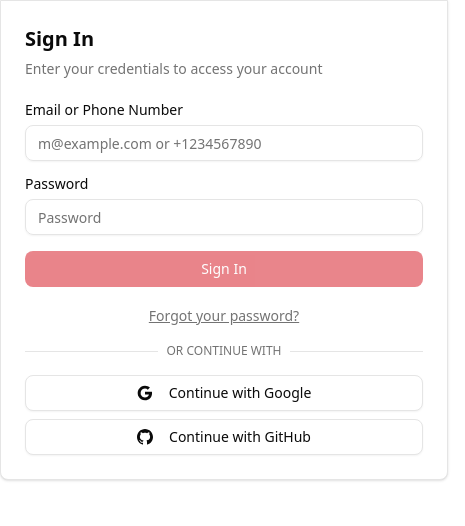
SignIn Form › should show validation error for short password
The width and height of the screenshot is (465, 526).
Type "test@example.com" into the field labelled "Email or Phone Number" at x=224, y=143, box x1=25 y1=125 x2=423 y2=161
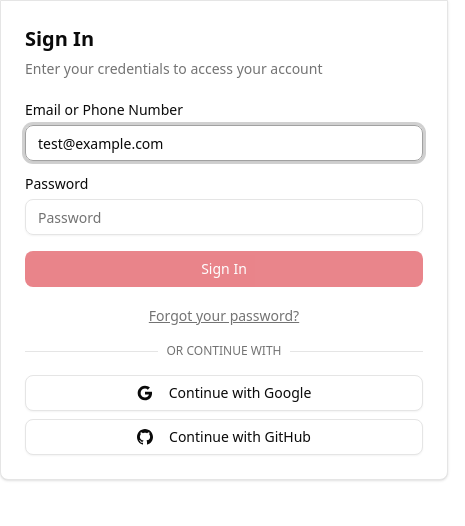
Type "123" into the password field labelled "Password" at x=224, y=217, box x1=25 y1=199 x2=423 y2=235
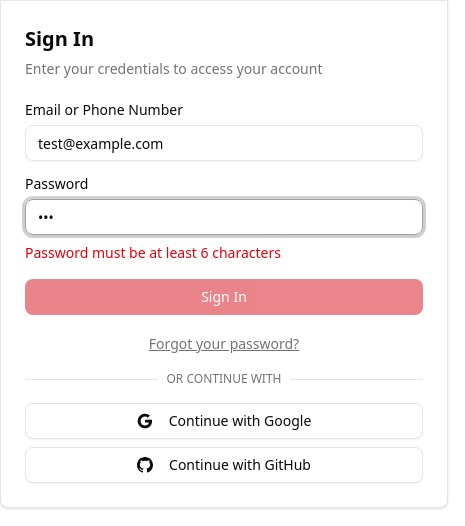
Result: the text "Password must be at least 6 characters" is shown at x1=25 y1=243 x2=281 y2=262
